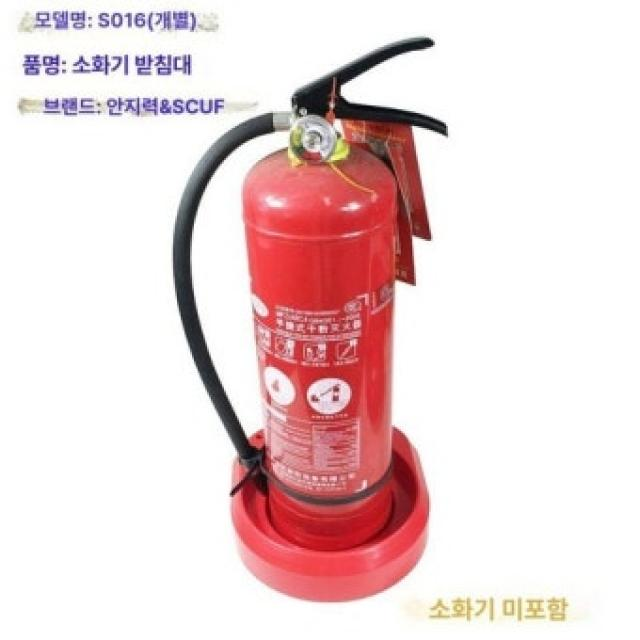pressure gauge: (292, 115, 337, 162)
